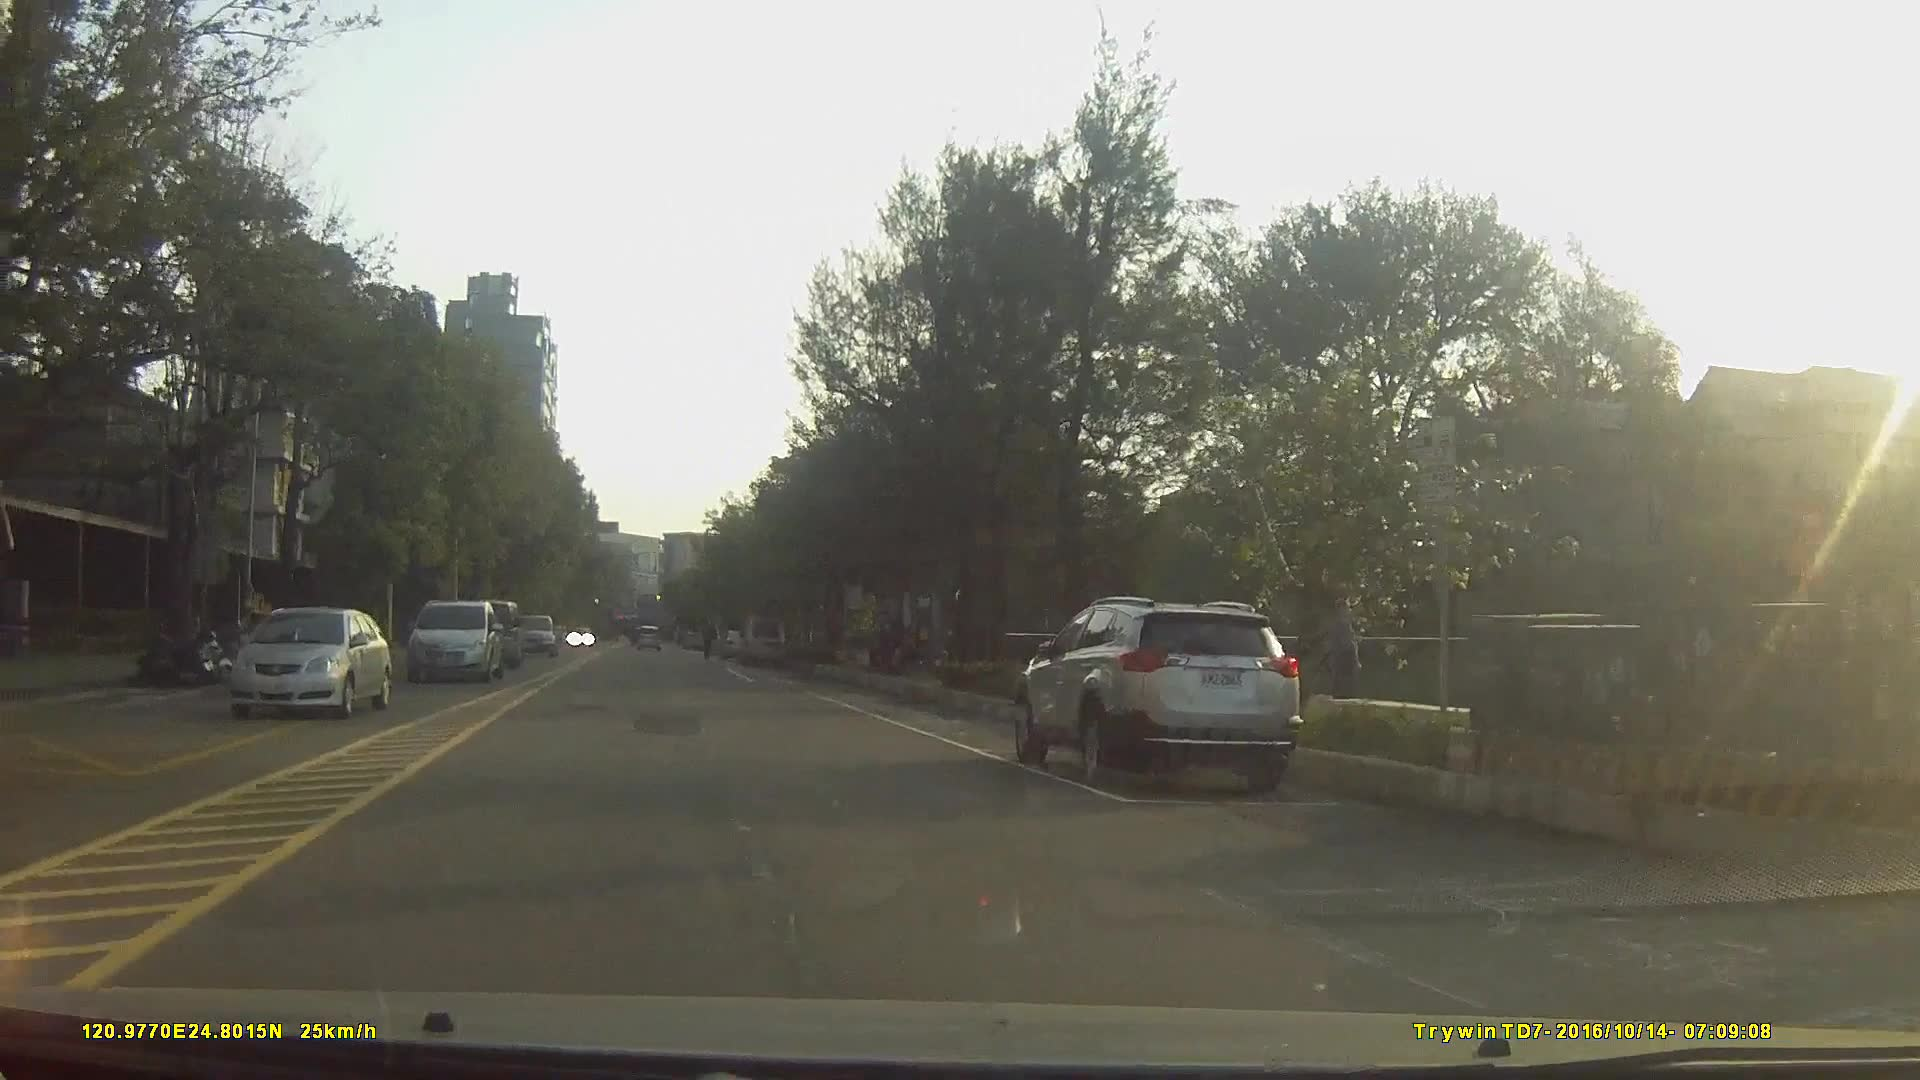vehicle: (1015, 597, 1302, 800), (225, 607, 393, 719), (407, 597, 502, 683), (735, 615, 789, 666), (512, 612, 559, 653), (716, 626, 752, 661), (634, 621, 663, 651)
